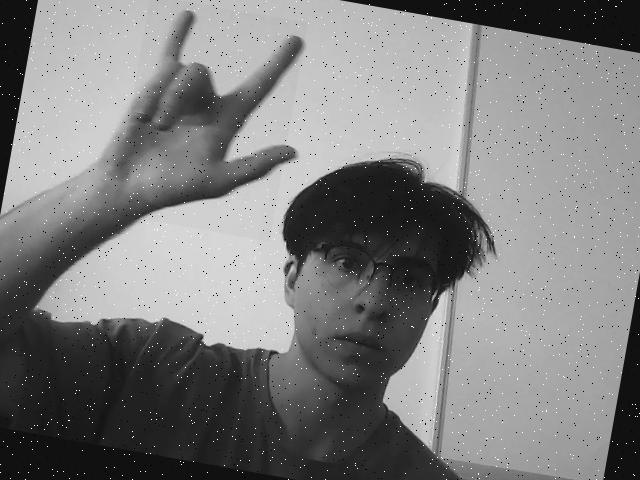I_Love_You: (111, 0, 307, 241)
